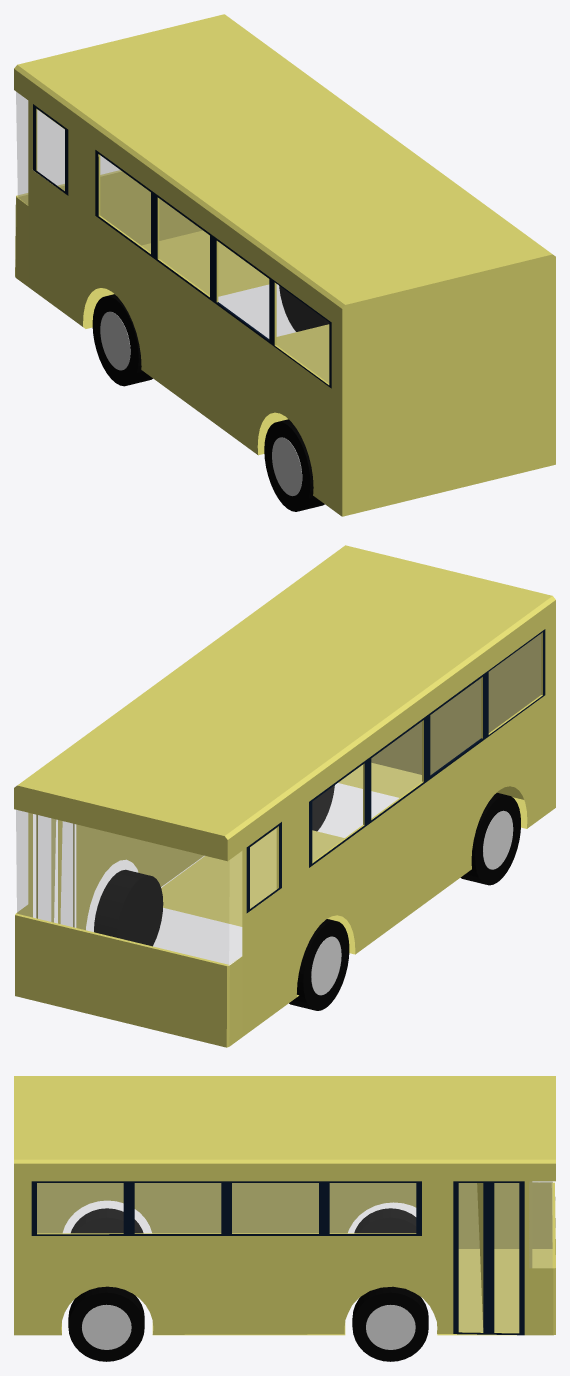
File: bus.gltf
The picture shows the model from 3 angles, top to bottom: view 1: azimuth 30°, elevation 25°; view 2: azimuth 150°, elevation 25°; view 3: azimuth 270°, elevation 25°; orthographic projection. The views are drawn at different scales.
Parts seen in each view (by area): view 1: Chassis, Wheel BL, Wheel TL, Wheel TR; view 2: Chassis, Wheel TR, Wheel TL, Wheel BL, Wheel BR; view 3: Chassis, Wheel BR, Wheel TR, Wheel TL, Wheel BL.
Part boxes in pixels (bbox=[...]): Chassis: bbox=[14, 14, 555, 516]; Wheel BL: bbox=[264, 419, 324, 511]; Wheel TL: bbox=[92, 294, 152, 386]; Wheel TR: bbox=[279, 285, 329, 331]; Chassis: bbox=[14, 545, 555, 1047]; Wheel TR: bbox=[94, 869, 163, 946]; Wheel TL: bbox=[289, 919, 349, 1010]; Wheel BL: bbox=[460, 793, 520, 885]; Wheel BR: bbox=[312, 785, 334, 831]; Chassis: bbox=[14, 1076, 555, 1335]; Wheel BR: bbox=[68, 1286, 144, 1361]; Wheel TR: bbox=[352, 1286, 428, 1361]; Wheel TL: bbox=[354, 1208, 416, 1233]; Wheel BL: bbox=[71, 1208, 143, 1233].
Bounding box in the file's own units: 2.43 × 2.66 × 6.46.
